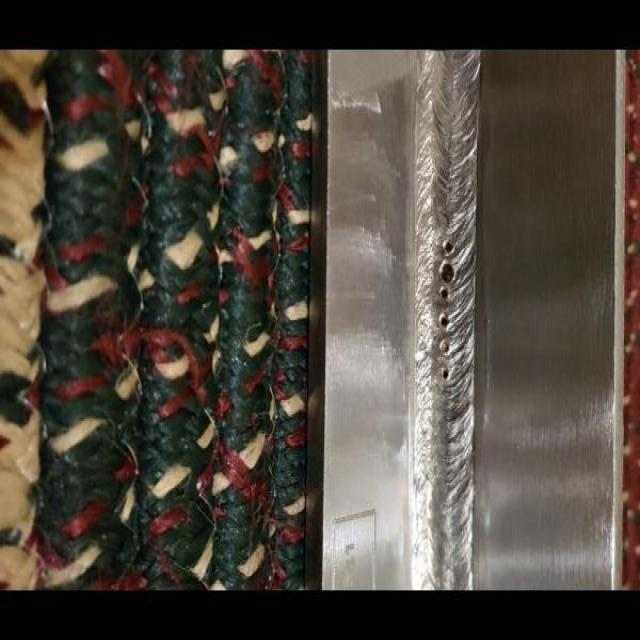Welding Line: (418, 51, 471, 594)
Workpiece: (314, 52, 620, 594)
porosity: (437, 240, 455, 378)
